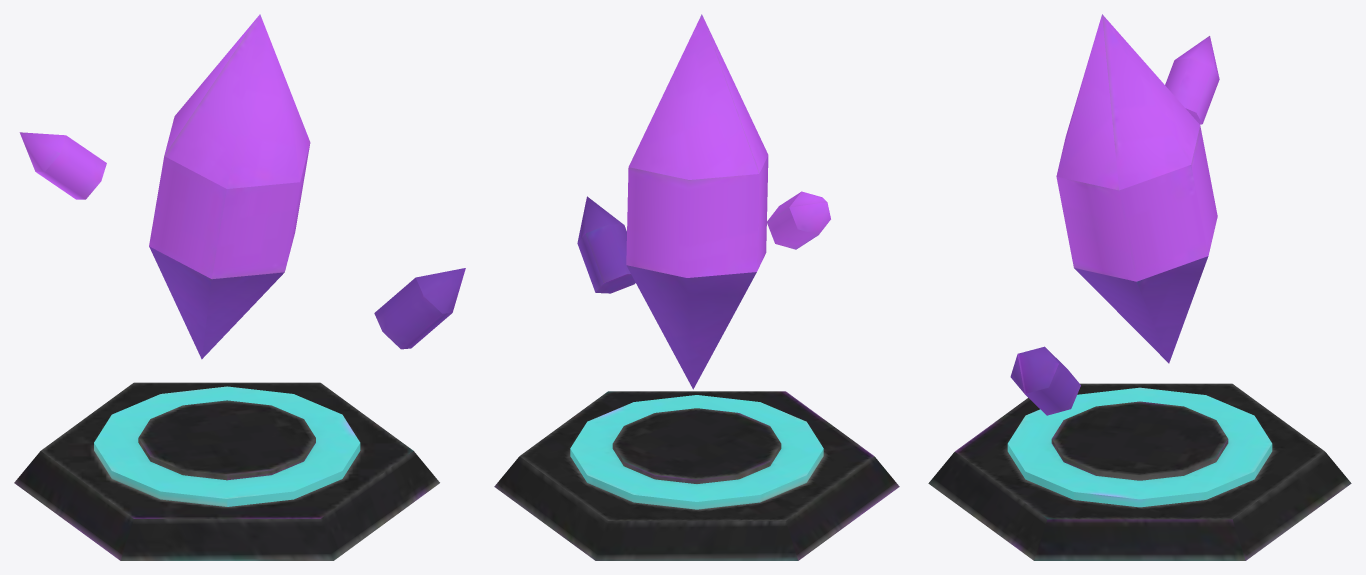
The model's file is null_g_materials.glb.
The picture shows the model from 3 angles, left to right: view 1: azimuth 30°, elevation 25°; view 2: azimuth 150°, elevation 25°; view 3: azimuth 270°, elevation 25°; orthographic projection. The views are drawn at different scales.
Parts seen in each view (by area): view 1: te_res_null_g_materials; view 2: te_res_null_g_materials; view 3: te_res_null_g_materials.
Part boxes in pixels (x1,y1,x2,y2): te_res_null_g_materials: (14,14,465,560); te_res_null_g_materials: (494,14,899,560); te_res_null_g_materials: (928,14,1351,560).
Bounding box in the file's own units: 0.4545 × 0.5958 × 0.48.
Materials: 1 (1 with a texture image).
